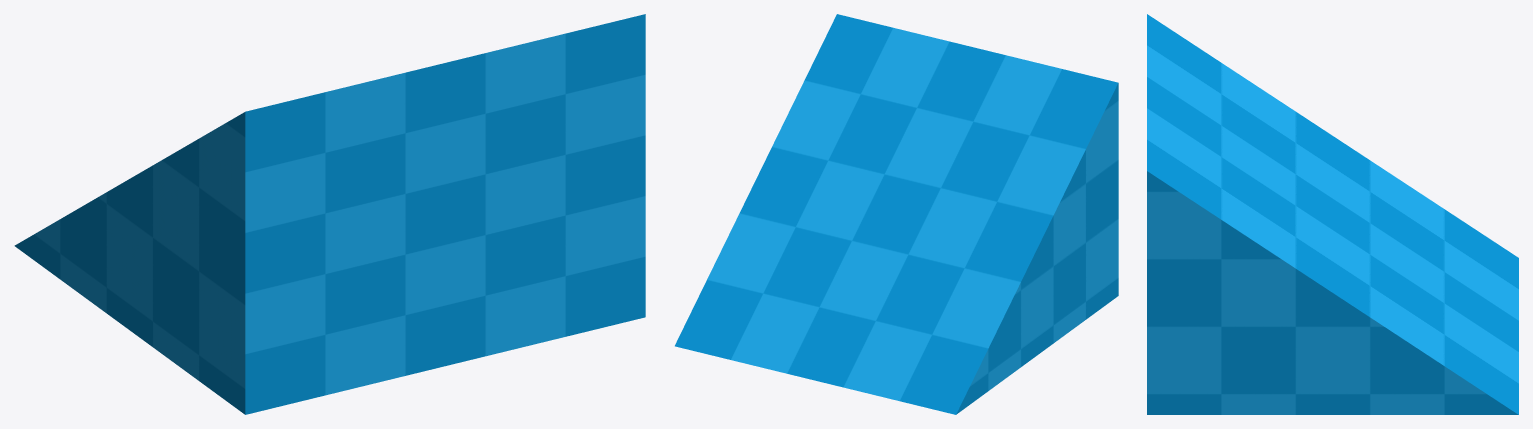
File: prism1040.FBX
3 views of the same model, side by side, from view 1: azimuth 30°, elevation 25°; view 2: azimuth 150°, elevation 25°; view 3: azimuth 270°, elevation 25° (orthographic). The views are drawn at different scales.
Visible parts, largest first — view 1: prism; view 2: prism; view 3: prism.
Boxes of the visible parts, bbox=[...] form: prism: bbox=[14, 14, 645, 414]; prism: bbox=[675, 14, 1118, 414]; prism: bbox=[1147, 14, 1518, 414].
Size of the model in its own units: 150 by 150 by 109.
